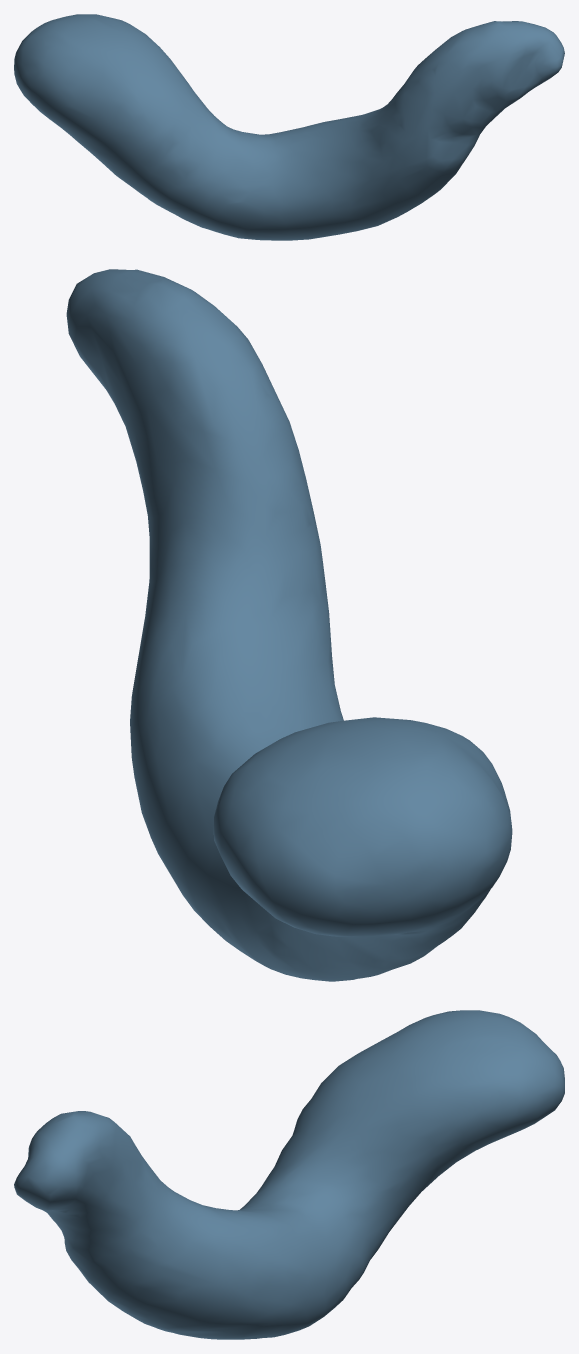
File: pancreas.fbx
3 views of the same model, one above another, from view 1: azimuth 30°, elevation 25°; view 2: azimuth 150°, elevation 25°; view 3: azimuth 270°, elevation 25° (orthographic). The views are drawn at different scales.
Visible parts, largest first — view 1: pancreas; view 2: pancreas; view 3: pancreas.
Boxes of the visible parts, bbox=[...] form: pancreas: bbox=[14, 14, 564, 240]; pancreas: bbox=[66, 269, 512, 981]; pancreas: bbox=[14, 1010, 564, 1339].
Size of the model in its own units: 10.08 by 6.07 by 10.14.
